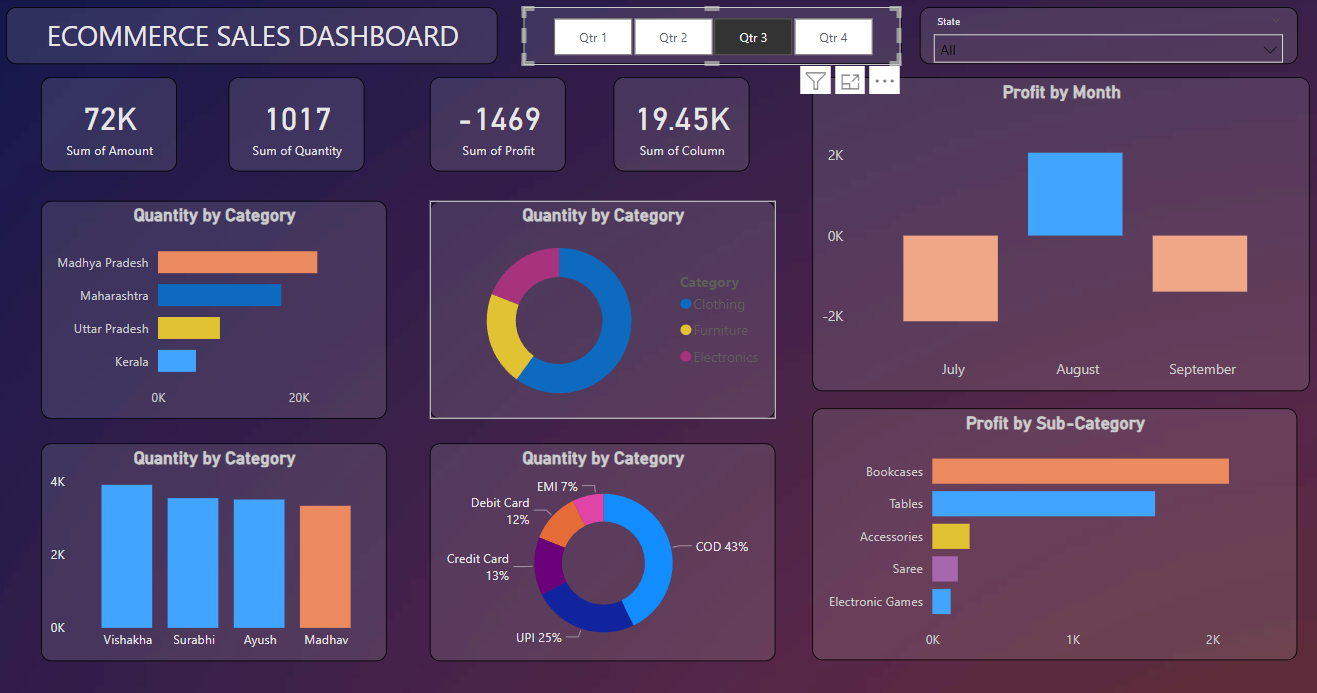

What the dashboard file says about the page in this screenshot:
{"tool":"powerbi","page":{"name":"Page 1","canvas":[1280,720],"ordinal":0},"visuals":[{"type":"textbox","box":[10,10,474.4,55.6],"z":0},{"type":"columnChart","title":"Profit by Month","fields":{"Y":["Sum(Details.Profit)"],"Category":["Orders.Order Date.Variation.Date Hierarchy.Month"]},"box":[787.8,76.7,480,303.3],"z":1000},{"type":"barChart","title":"Profit by Sub-Category ","fields":{"Category":["Details.Sub-Category"],"Y":["Sum(Details.Profit)"]},"box":[787.8,396.7,467.8,243.3],"z":2000},{"type":"donutChart","title":"Quantity by Category","fields":{"Category":["Details.Category"],"Y":["Sum(Details.Quantity)"]},"box":[418.9,196.7,333.3,210],"z":3000},{"type":"donutChart","title":"Quantity by Category","fields":{"Y":["Sum(Details.Quantity)"],"Category":["Details.PaymentMode"]},"box":[418.9,430,333.3,210],"z":4000},{"type":"card","fields":{"Values":["Sum(Details.Column)"]},"box":[595.6,76.7,131.1,91.1],"z":5000},{"type":"card","fields":{"Values":["Sum(Details.Amount)"]},"box":[43.3,76.7,131.1,91.1],"z":6000},{"type":"card","fields":{"Values":["Sum(Details.Quantity)"]},"box":[224.4,76.7,131.1,91.1],"z":7000},{"type":"card","fields":{"Values":["Sum(Details.Profit)"]},"box":[418.9,76.7,131.1,91.1],"z":8000},{"type":"columnChart","title":"Quantity by Category","fields":{"Category":["Orders.CustomerName"],"Y":["Sum(Details.Amount)"]},"box":[43.3,430,333.3,210],"z":9000},{"type":"barChart","title":"Quantity by Category","fields":{"Category":["Orders.State"],"Y":["Sum(Details.Amount)"]},"box":[43.3,196.7,333.3,210],"z":10000},{"type":"slicer","fields":{"Values":["Orders.Order Date.Variation.Date Hierarchy.Quarter"]},"box":[508.9,10,364.4,55.6],"z":10001},{"type":"slicer","fields":{"Values":["Orders.State"]},"box":[891.1,10,364.4,55.6],"z":10002}]}

Visuals, with their boxes on the page's 1280x720 design canvas (x1, y1, x2, y2). These are canvas units, not pixel positions in the 1317x693 screenshot, which may show the page scaled, cropped or inside an application window:
textbox: <region>10, 10, 484, 66</region>
"Profit by Month" columnChart: <region>788, 77, 1268, 380</region>
"Profit by Sub-Category " barChart: <region>788, 397, 1256, 640</region>
"Quantity by Category" donutChart: <region>419, 197, 752, 407</region>
"Quantity by Category" donutChart: <region>419, 430, 752, 640</region>
card - Sum(Details.Column): <region>596, 77, 727, 168</region>
card - Sum(Details.Amount): <region>43, 77, 174, 168</region>
card - Sum(Details.Quantity): <region>224, 77, 356, 168</region>
card - Sum(Details.Profit): <region>419, 77, 550, 168</region>
"Quantity by Category" columnChart: <region>43, 430, 377, 640</region>
"Quantity by Category" barChart: <region>43, 197, 377, 407</region>
slicer - Orders.Order Date.Variation.Date Hierarchy.Quarter: <region>509, 10, 873, 66</region>
slicer - Orders.State: <region>891, 10, 1256, 66</region>
